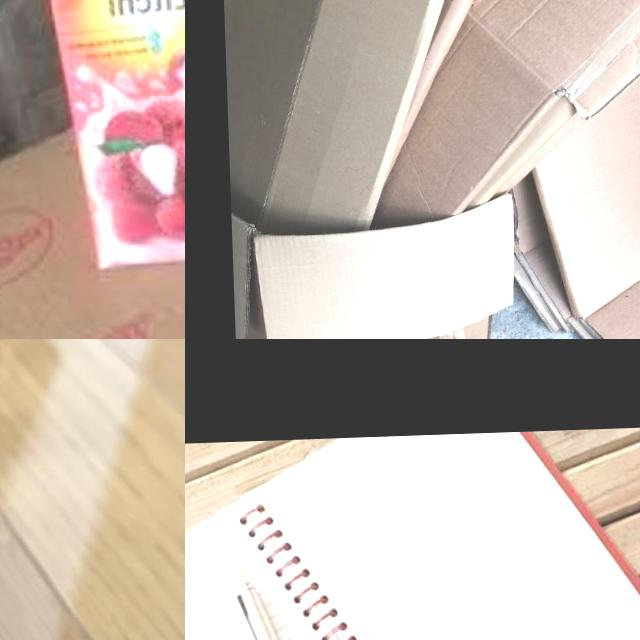caixinha: (13, 0, 185, 273)
papel: (185, 426, 640, 640)
papelão: (217, 0, 640, 239), (498, 0, 640, 339), (231, 191, 524, 339)
